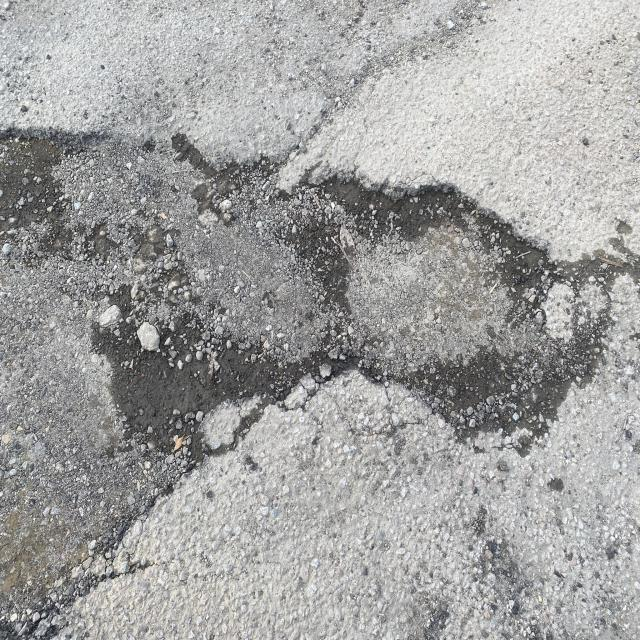Pothole: (9, 81, 629, 536)
